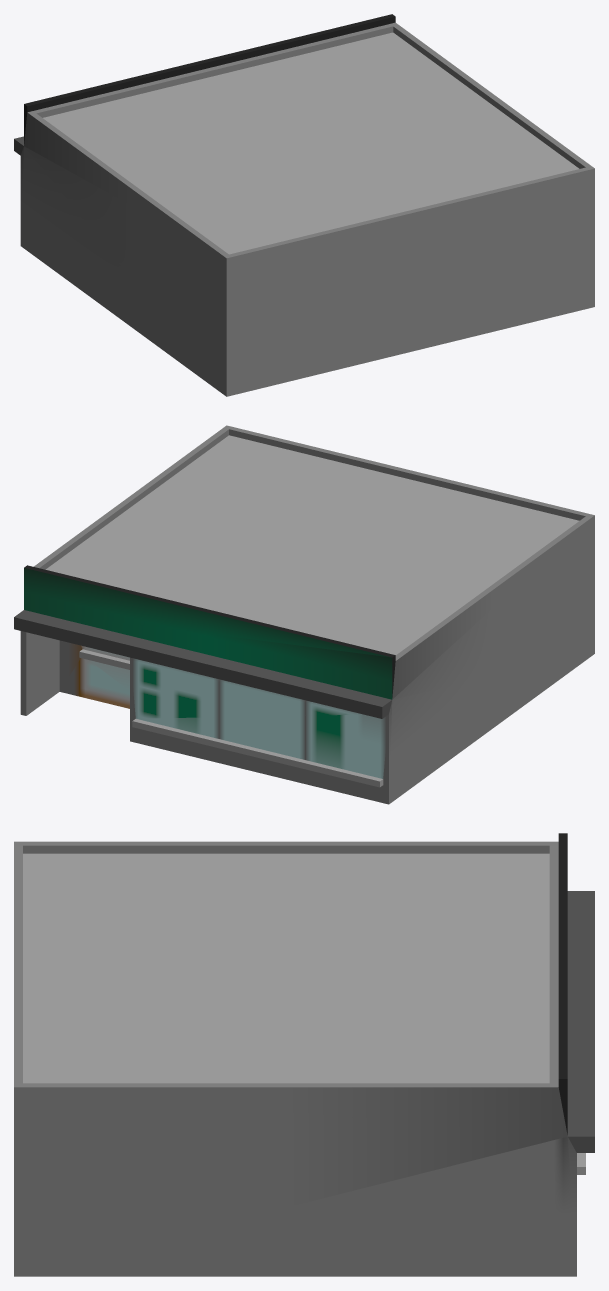
File: obj_store02.fbx
3 views of the same model, one above another, from view 1: azimuth 30°, elevation 25°; view 2: azimuth 150°, elevation 25°; view 3: azimuth 270°, elevation 25° (orthographic). The views are drawn at different scales.
Visible parts, largest first — view 1: obj_store02; view 2: obj_store02; view 3: obj_store02.
Boxes of the visible parts, box(x1,y1,x2,y2) form: obj_store02: box(14, 14, 594, 396); obj_store02: box(14, 425, 594, 804); obj_store02: box(14, 833, 594, 1276).
Size of the model in its own units: 6.4 by 6.4 by 2.4.
Materials: 1 (1 with a texture image).
